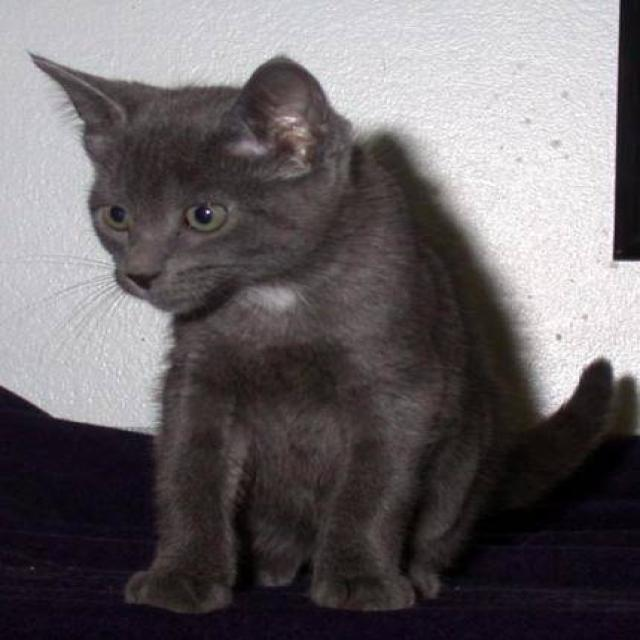cat: (25, 49, 616, 614)
